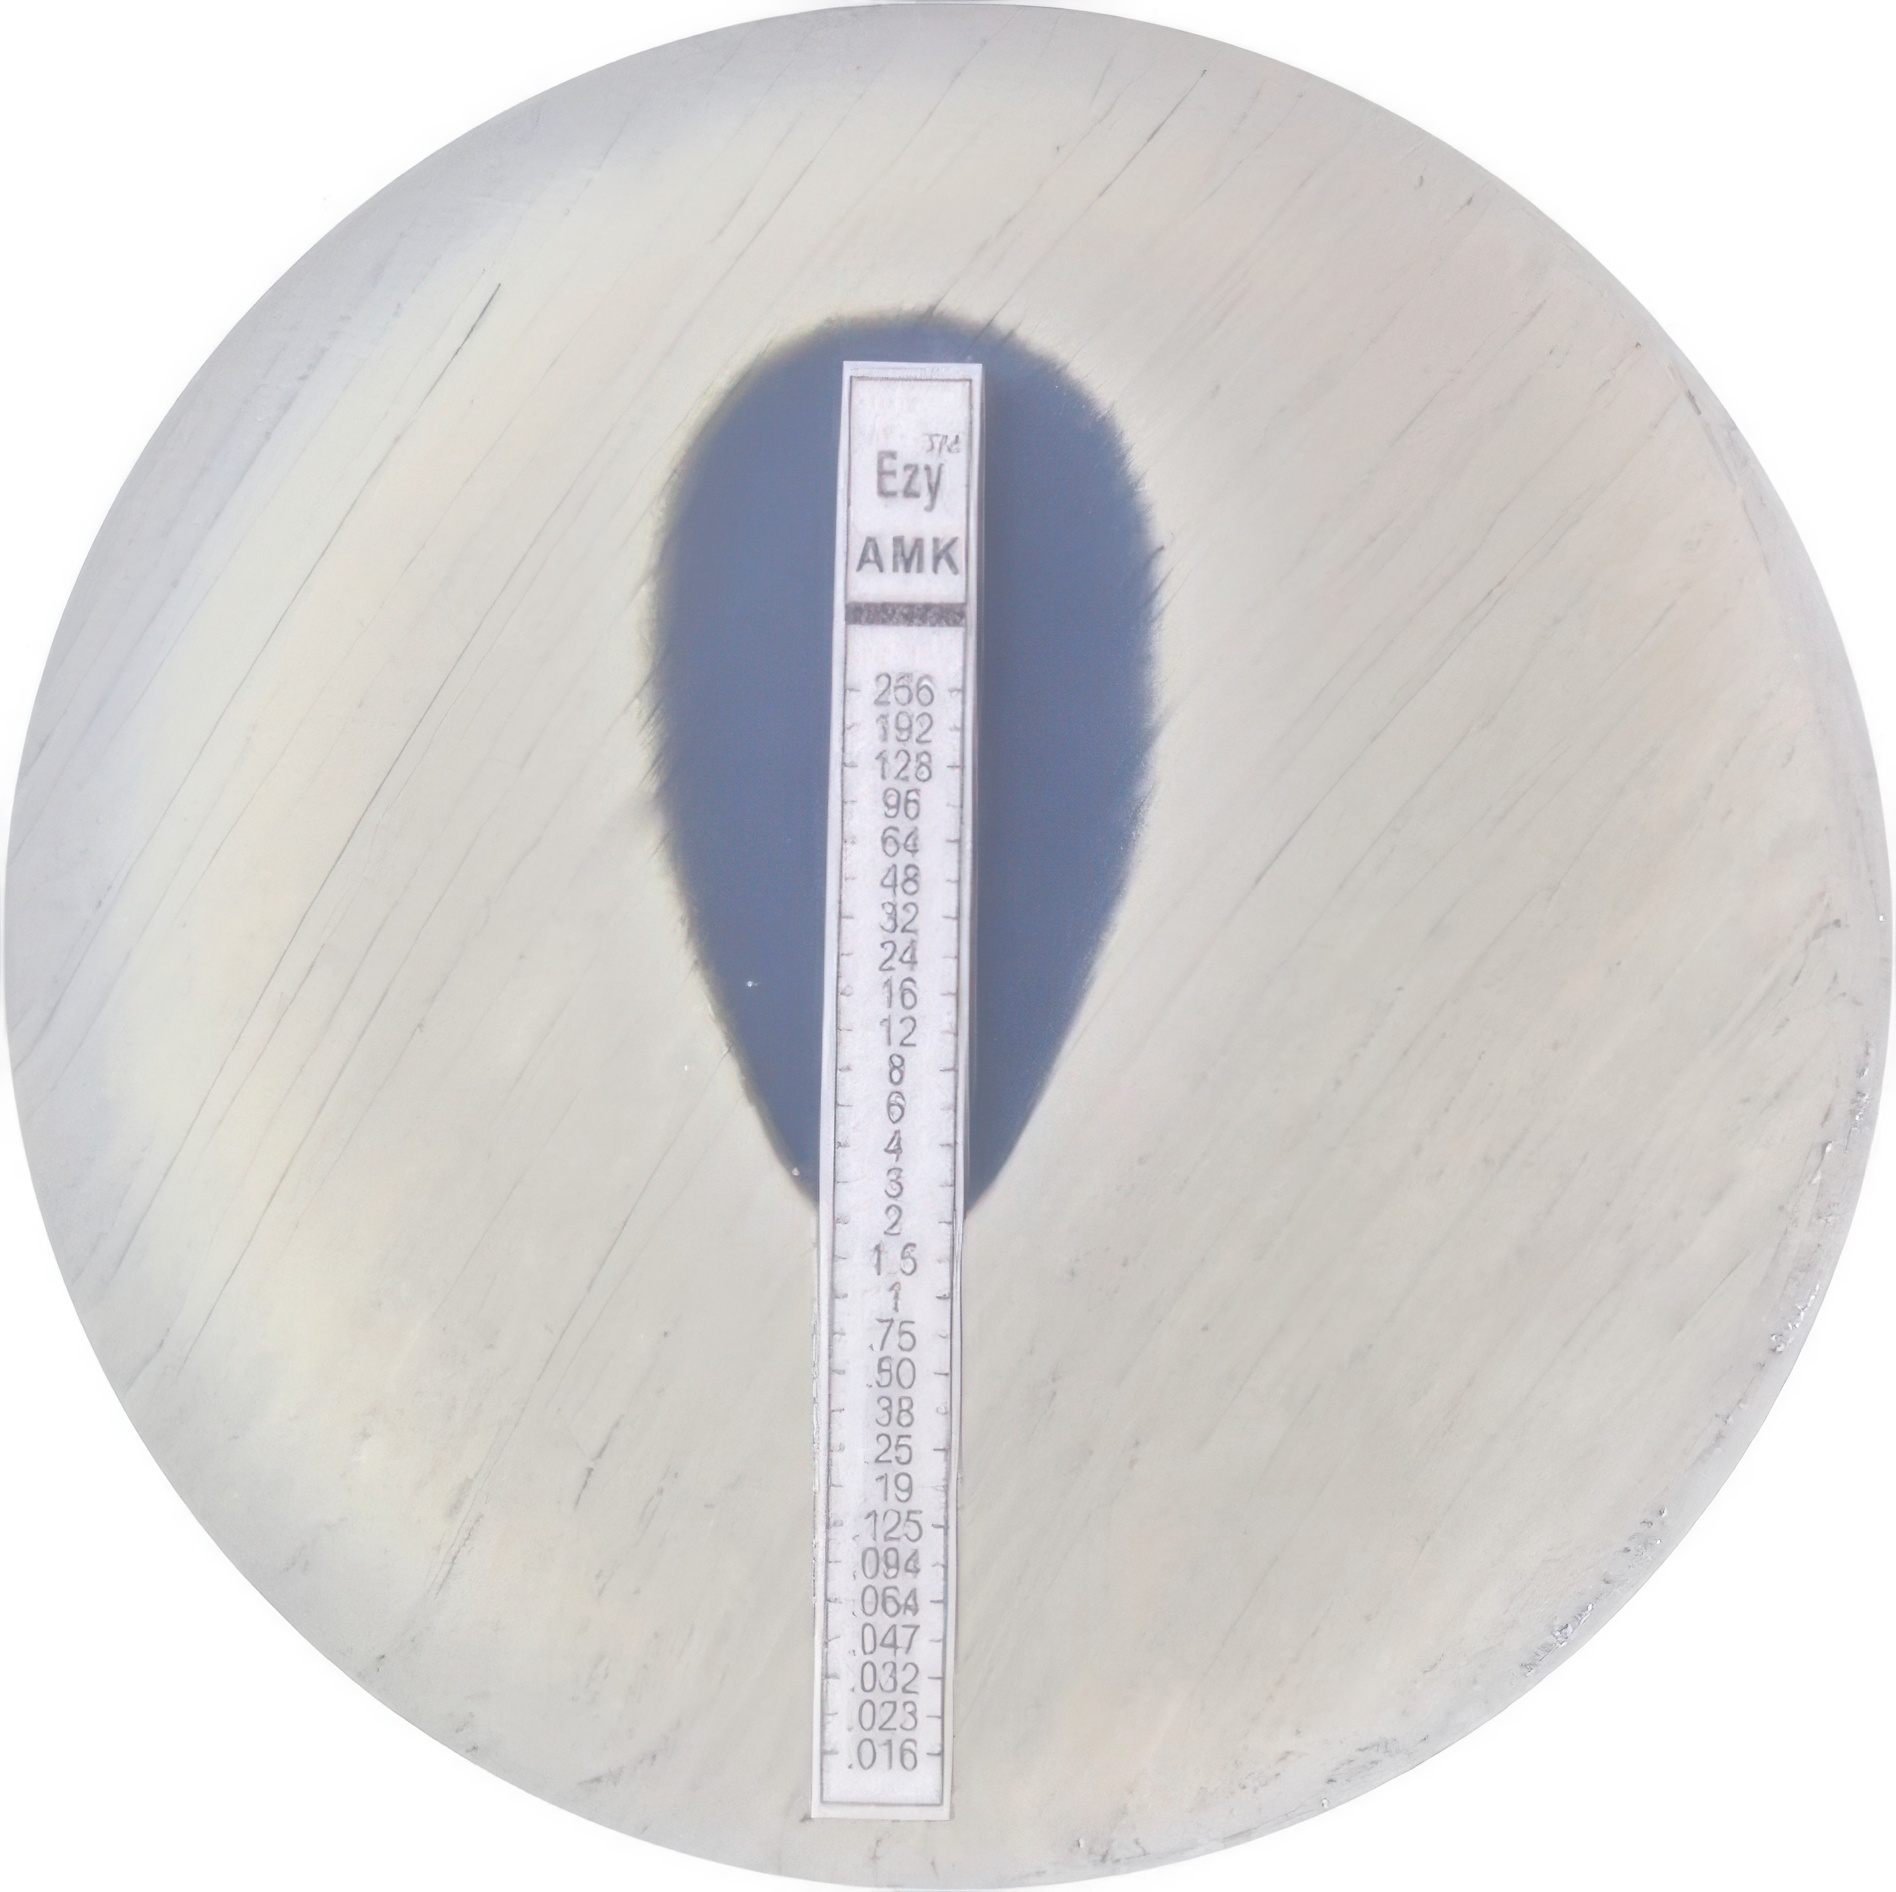line: (806, 359, 986, 1821)
zone: (650, 314, 1156, 1213)
